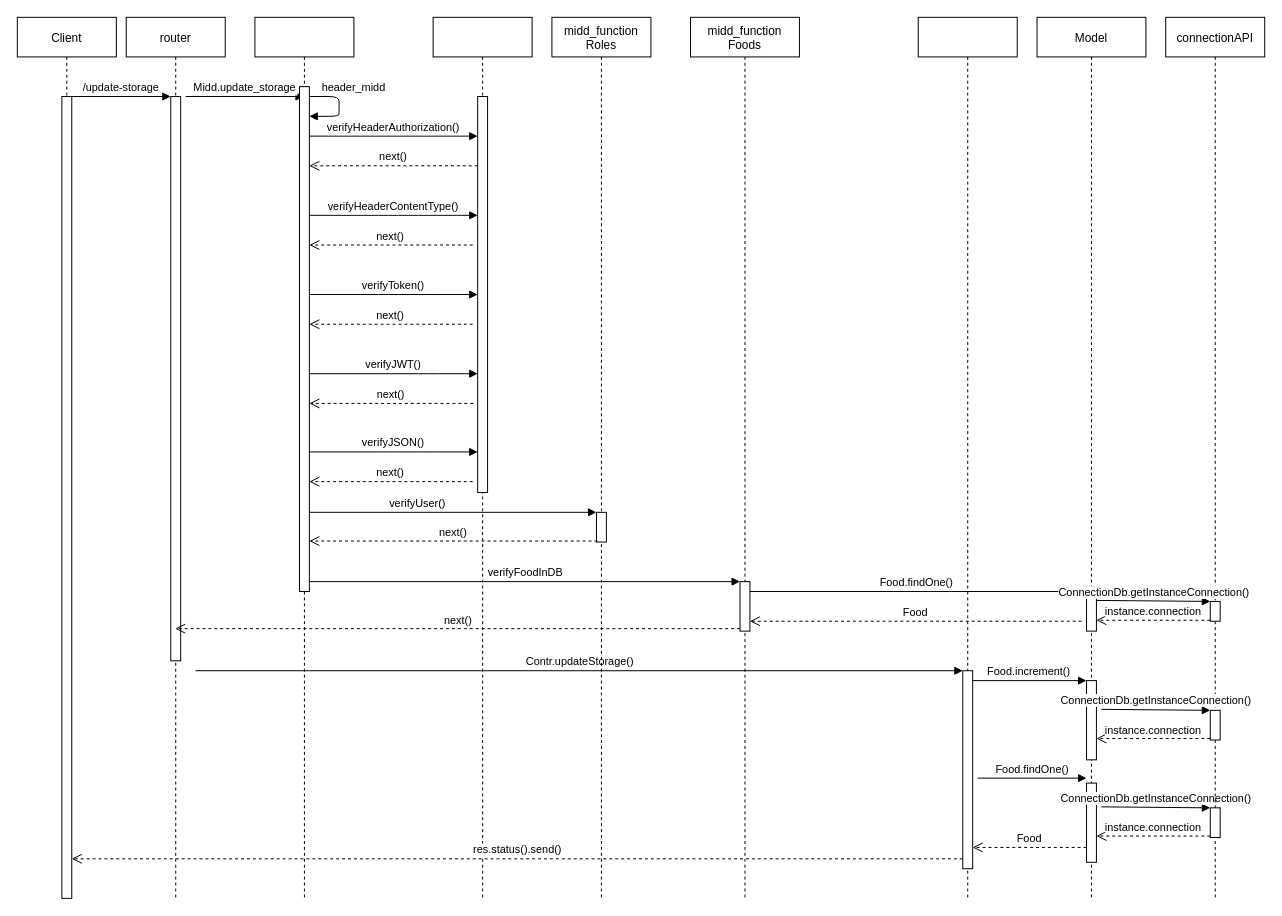
Image size: 1282x916. Some labels were removed from this diagram. The box of each missing label's shape, as (x1, y1, x2, y2) in pixels:
Controller: (917, 16, 1017, 898)
midd_function Generic: (432, 16, 532, 898)
midd_route: (254, 16, 354, 898)
